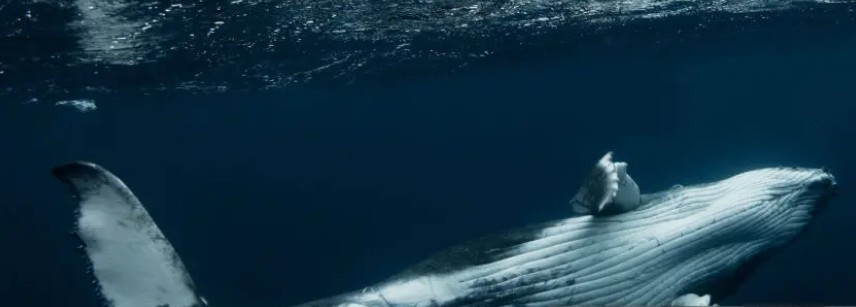whale: (51, 161, 209, 306)
